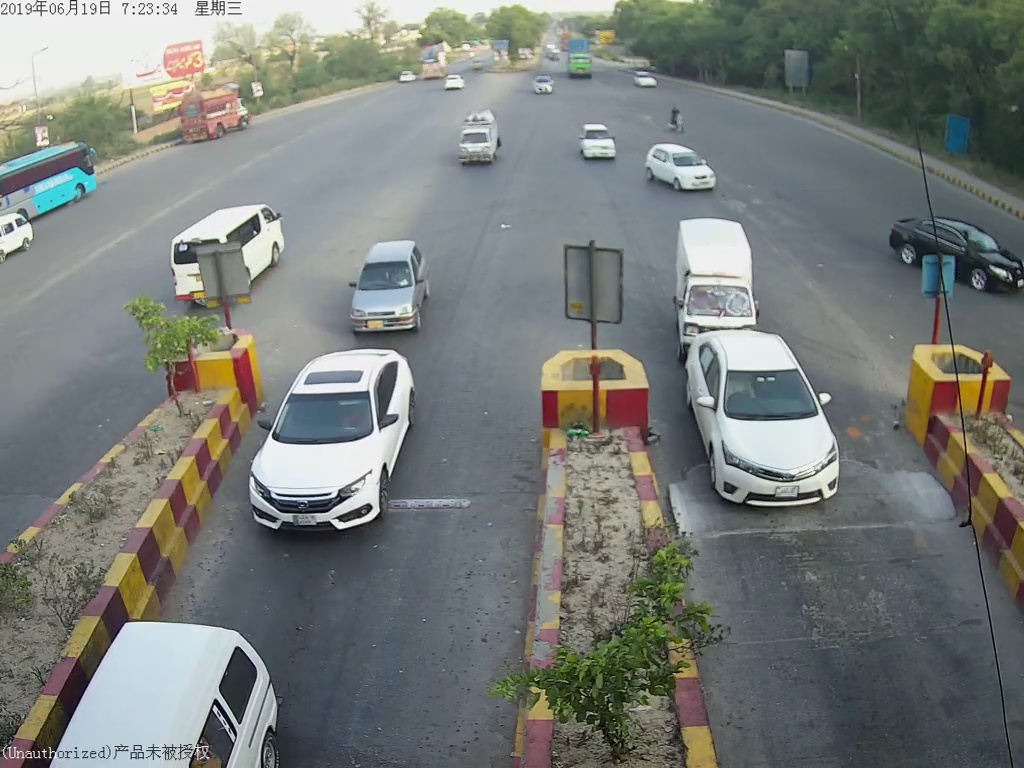Cat-1: (246, 341, 426, 567), (677, 340, 857, 510), (674, 224, 760, 329), (350, 240, 429, 334)
